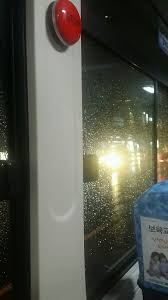bell: (45, 1, 85, 56)
